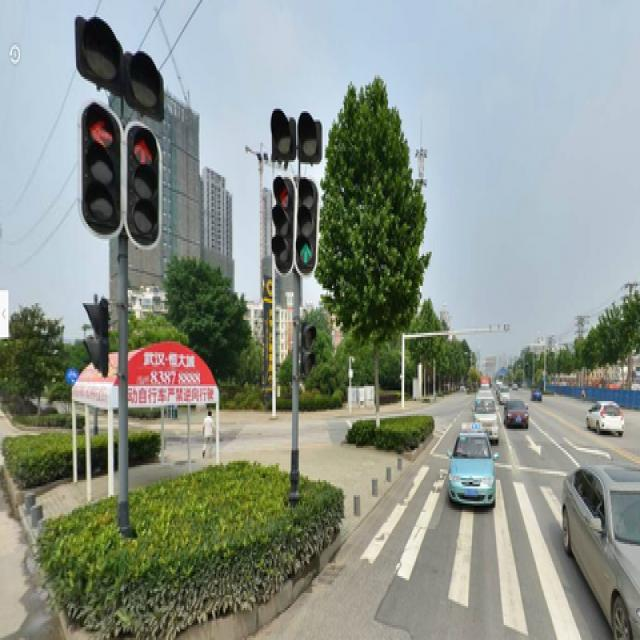meta: (331, 90, 409, 428)
